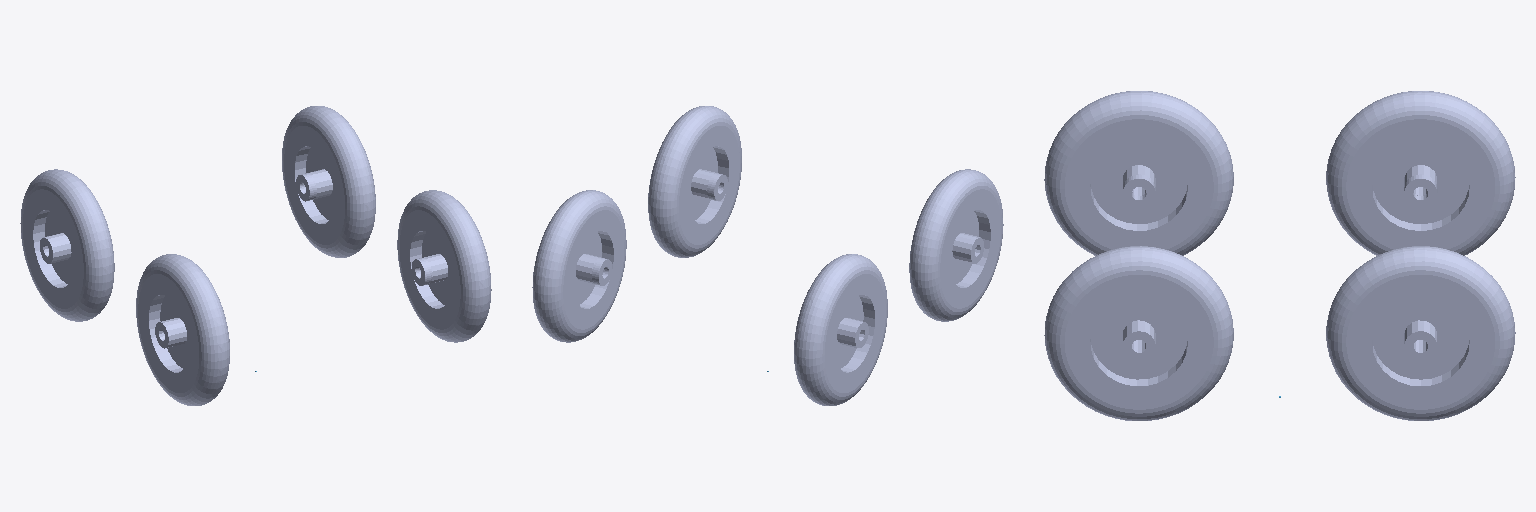
URDF robot description (fred_montagem):
<?xml version="1.0" encoding="utf-8"?>
<!-- This URDF was automatically created by SolidWorks to URDF Exporter! Originally created by [author] ([email redacted]) 
     Commit Version: 1.6.0-4-g7f85cfe  Build Version: 1.6.7995.38578
     For more information, please see http://wiki.ros.org/sw_urdf_exporter -->
<robot xmlns:xacro="http://www.ros.org/wiki/xacro" name="fred_montagem">

  
<!-- !_____________________ BASE OF THE ROBOT -> LINK _____________________ -->
  <link name="base_link">
    
    <!-- *Define the inertial properties of the link -->
    <inertial> 
      <origin
        xyz="0.00139187403858163 0.0661307685643301 0.00395945537614263"
        rpy="0 0 0" />
      <mass
        value="4.63143329848068" />
      <inertia
        ixx="0.0356984612583256"
        ixy="-3.70847488075032E-06"
        ixz="-5.00982880058767E-05"
        iyy="0.0474801044455017"
        iyz="6.61023819591993E-05"
        izz="0.0136093829558188" />
    </inertial>
   
    <!-- *Define the visual properties of the link -->
    <visual>
      
      <!-- *Define the position in relation of the base_link
      <origin
        xyz="0 0 0.08"
        rpy="0 0 0" /> -->

      <!-- *Define the geometry information --> 
      <geometry>
        
        <!-- *The mesh file used for visualization of the link -->
        <mesh filename="package://fred_montagem/meshes/base_link.STL" />
      
      </geometry>
      
      <!-- *Define the material properties of the link -->
      <material name="">
        
        <!-- *The RGBA color values (red, green, blue, alpha) -->
        <color rgba="0.752941176470588 0.752941176470588 0.752941176470588 1" />
     
      </material>
    </visual>
    
    <!-- *Define the collision properties of the link -->
    <collision>
      <origin
        xyz="0 0 0"
        rpy="0 0 0" />
      <geometry>
        
        <!-- *The mesh file used for collision detection of the link -->
        <mesh
          filename="package://fred_montagem/meshes/base_link.STL" />
      </geometry>
    </collision>
  </link>
  
	<link name="base_footprint">
		  <visual>
			  <origin xyz="0 0 0" rpy="0 0 0" />
			  <geometry>
				 <box size="0.001 0.001 0.001" />
			  </geometry>
		  </visual>
	</link>

  <joint name="base_link_to_base_footprint" type="fixed">
    <parent link="base_footprint"/>
    <child link="base_link"/>
    <origin xyz="0 0 0.1" rpy="0 0 0"/>
  </joint>


  <!-- !______________________ SENSORS INFORMATION ___________________________-->
  
  <!-- ! LIDAR SENSOR ___________________________-->
  
  <link name="lidar_link">
  <!-- *Link description -->

    <!-- *Definition of LIDAR sensor -->
    <sensor name="lidar_sensor" type="ray">
      <pose xyz="0.225 0 0.07" rpy="0 0 0" /> <!-- *Sensor position and orientation -->
      <visualize>true</visualize> <!-- *Sensor visualization -->
      <update_rate>10</update_rate> <!-- *Sensor update rate (10 Hz) -->

      <!-- *LIDAR scan settings -->
      <ray>
        <scan>
          <horizontal>
            <samples>360</samples> <!-- *Number of scan samples (360) -->
            <resolution>1</resolution> <!-- *Angular resolution of the scan (1 radian) -->
            <min_angle>-1.5708</min_angle> <!-- *Minimum scan angle (-90 degrees) -->
            <max_angle>1.5708</max_angle> <!-- *Maximum scan angle (90 degrees) -->
          </horizontal>
        </scan>

        <!-- *LIDAR range settings -->
        <range>
          <min>0.01</min> <!-- *Minimum range distance (0.01 meters) -->
          <max>12.0</max> <!-- *Maximum range distance (12.0 meters) -->
          <resolution>0.01</resolution> <!-- *Range resolution (0.01 meters) -->
        </range>
      </ray>
    </sensor>
  </link>

  <joint name="lidar_joint" type="fixed">
    <origin xyz="0 0.18 0.187" rpy="0 0 0" />
    <parent link="base_link" />
    <child link="lidar_link" />

    <!-- *Definition of LIDAR sensor -->
    <sensor name="lidar_sensor" type="ray">
      <pose xyz=" 0 0.225 0.07" rpy="0 0 0" /> <!-- *Sensor position and orientation -->
      <visualize>true</visualize> <!-- *Sensor visualization -->
      <update_rate>10</update_rate> <!-- *Sensor update rate (10 Hz) -->

      <!-- *LIDAR scan settings -->
      <ray>
        <scan>
          <horizontal>
            <samples>360</samples> <!-- *Number of scan samples (360) -->
            <resolution>1</resolution> <!-- *Angular resolution of the scan (1 radian) -->
            <min_angle>-1.5708</min_angle> <!-- *Minimum scan angle (-90 degrees) -->
            <max_angle>1.5708</max_angle> <!-- *Maximum scan angle (90 degrees) -->
          </horizontal>
        </scan>

        <!-- *LIDAR range settings -->
        <range>
          <min>0.01</min> <!-- *Minimum range distance (0.01 meters) -->
          <max>12.0</max> <!-- *Maximum range distance (12.0 meters) -->
          <resolution>0.01</resolution> <!-- *Range resolution (0.01 meters) -->
        </range>
      </ray>
    </sensor>
  </joint>

  <link
    name="roda1_link">
    <inertial>
      <origin
        xyz="0 -1.38777878078145E-17 -0.00141323710439914"
        rpy="0 0 0" />
      <mass
        value="0.429989283650456" />
      <inertia
        ixx="0.000697974605354243"
        ixy="-1.35525271560688E-20"
        ixz="-4.20771292679119E-20"
        iyy="0.000697974605354243"
        iyz="-4.01268310786857E-19"
        izz="0.00133072022796708" />
    </inertial>
    <visual>
      <origin
        xyz="0 0 0"
        rpy="0 0 0" />
      <geometry>
        <mesh
          filename="package://fred_montagem/meshes/roda1.STL" />
      </geometry>
      <material
        name="">
        <color
          rgba="0.792156862745098 0.819607843137255 0.933333333333333 1" />
      </material>
    </visual>
    <collision>
      <origin
        xyz="0 0 0"
        rpy="0 0 0" />
      <geometry>
        <mesh
          filename="package://fred_montagem/meshes/roda1.STL" />
      </geometry>
    </collision>
  </link>
  <joint
    name="roda1"
    type="continuous">
    <origin
      xyz="0.14881 0.113 0.025"
      rpy="1.5708 -1.3493 1.5708" />
    <parent
      link="base_link" />
    <child
      link="roda1_link" />
    <axis xyz="0 0 1" rpy="0 0 0" />

  </joint>
  
  
  
  
  <link
    name="roda2">
    <inertial>
      <origin
        xyz="0 0 -0.00141323710439917"
        rpy="0 0 0" />
      <mass
        value="0.429989283650456" />
      <inertia
        ixx="0.000697974605354243"
        ixy="0"
        ixz="4.17648288400282E-20"
        iyy="0.000697974605354243"
        iyz="-3.97310150637262E-19"
        izz="0.00133072022796708" />
    </inertial>
    <visual>
      <origin
        xyz="0 0 0"
        rpy="0 0 0" />
      <geometry>
        <mesh
          filename="package://fred_montagem/meshes/roda2.STL" />
      </geometry>
      <material
        name="">
        <color
          rgba="0.792156862745098 0.819607843137255 0.933333333333333 1" />
      </material>
    </visual>
    <collision>
      <origin
        xyz="0 0 0"
        rpy="0 0 0" />
      <geometry>
        <mesh
          filename="package://fred_montagem/meshes/roda2.STL" />
      </geometry>
    </collision>
  </link>
  <joint
    name="roda2"
    type="continuous">
    <origin
      xyz="-0.14881 0.113 0.025"
      rpy="1.5708 1.3493 -1.5708" />
    <parent
      link="base_link" />
    <child
      link="roda2" />
    <axis xyz="0 0 1" rpy="0 0 0" />

  </joint>
  
  
  
  
  
  <link
    name="roda3">
    <inertial>
      <origin
        xyz="2.77555756156289E-17 6.93889390390723E-18 -0.0014132371043992"
        rpy="0 0 0" />
      <mass
        value="0.429989283650456" />
      <inertia
        ixx="0.000697974605354243"
        ixy="0"
        ixz="1.40369272626023E-19"
        iyy="0.000697974605354243"
        iyz="2.38922098829457E-20"
        izz="0.00133072022796708" />
    </inertial>
    <visual>
      <origin
        xyz="0 0 0"
        rpy="0 0 0" />
      <geometry>
        <mesh
          filename="package://fred_montagem/meshes/roda3.STL" />
      </geometry>
      <material
        name="">
        <color
          rgba="0.792156862745098 0.819607843137255 0.933333333333333 1" />
      </material>
    </visual>
    <collision>
      <origin
        xyz="0 0 0"
        rpy="0 0 0" />
      <geometry>
        <mesh
          filename="package://fred_montagem/meshes/roda3.STL" />
      </geometry>
    </collision>
  </link>
  <joint
    name="roda3"
    type="continuous">
    <origin
      xyz="0.14881 -0.113 0.025"
      rpy="1.5708 0.72582 1.5708" />
    <parent
      link="base_link" />
    <child
      link="roda3" />
    <axis xyz="0 0 1" rpy="0 0 0" />

  </joint>
  
  
  
  <link
    name="roda4">
    <inertial>
      <origin
        xyz="-4.16333634234434E-17 6.93889390390723E-18 -0.00141323710439917"
        rpy="0 0 0" />
      <mass
        value="0.429989283650456" />
      <inertia
        ixx="0.000697974605354243"
        ixy="-2.71050543121376E-20"
        ixz="-1.37211286325669E-19"
        iyy="0.000697974605354243"
        iyz="1.23583139761425E-20"
        izz="0.00133072022796708" />
    </inertial>
    <visual>
      <origin
        xyz="0 0 0"
        rpy="0 0 0" />
      <geometry>
        <mesh
          filename="package://fred_montagem/meshes/roda4.STL" />
      </geometry>
      <material
        name="">
        <color
          rgba="0.792156862745098 0.819607843137255 0.933333333333333 1" />
      </material>
    </visual>
    <collision>
      <origin
        xyz="0 0 0"
        rpy="0 0 0" />
      <geometry>
        <mesh
          filename="package://fred_montagem/meshes/roda4.STL" />
      </geometry>
    </collision>
  </link>
  <joint
    name="roda4"
    type="continuous">
    <origin
      xyz="-0.14881 -0.113 0.025"
      rpy="1.5708 -0.72582 -1.5708" />
    <parent
      link="base_link" />
    <child
      link="roda4" />
    <axis xyz="0 0 1" rpy="0 0 0" />


  </joint>
</robot>

--- Facts derived from the render (not from the file) ---
Views: 3 orthographic renders of the robot side by side, from view 1: azimuth 30°, elevation 25°; view 2: azimuth 150°, elevation 25°; view 3: azimuth 270°, elevation 25°.
Model fred_montagem with 7 links and 6 joints (4 continuous, 2 fixed), rooted at base_footprint, posed every joint at zero.
Visible links, largest first — view 1: roda4, roda1_link, roda2, roda3; view 2: roda3, roda4, roda1_link, roda2; view 3: roda3, roda1_link, roda4, roda2.
Link boxes in pixels (x1,y1,x2,y2): roda4: [136, 254, 229, 405]; roda1_link: [282, 106, 375, 257]; roda2: [20, 169, 114, 321]; roda3: [397, 190, 491, 342]; roda3: [648, 106, 741, 257]; roda4: [909, 169, 1003, 321]; roda1_link: [532, 190, 626, 342]; roda2: [794, 254, 887, 405]; roda3: [1044, 246, 1233, 420]; roda1_link: [1326, 246, 1515, 420]; roda4: [1044, 91, 1233, 255]; roda2: [1326, 91, 1515, 255].
Bounding box of the posed robot: 0.3428 × 0.378 × 0.2015 m (x, y, z).
4 mesh visuals loaded from 5 distinct referenced files (4 binary STL); not drawn: 1 (reference not matched to a file when rendering).
